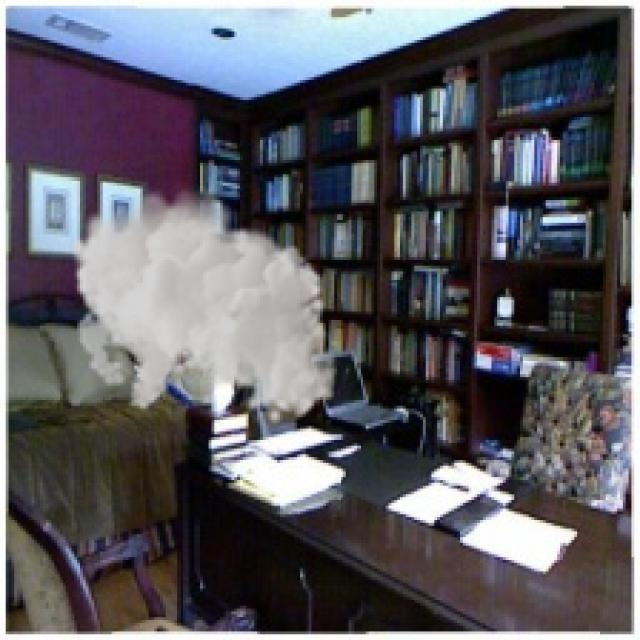smoke: (69, 180, 337, 426)
